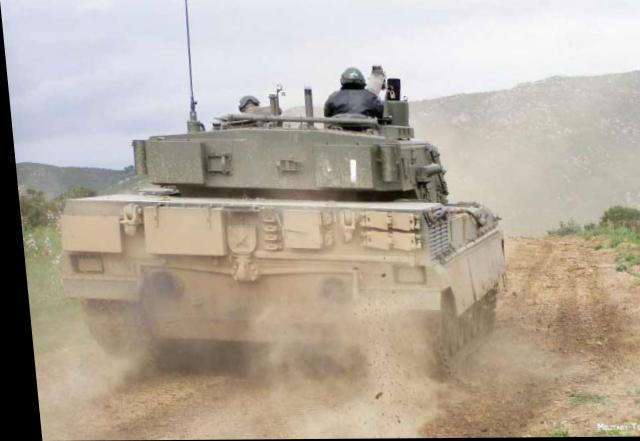tank: (37, 66, 510, 364)
